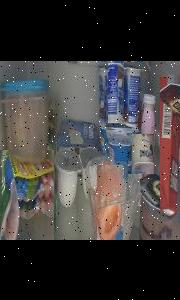Salchichas: (0, 149, 54, 240)
Salsa de tomate: (160, 74, 180, 221)
Tomate: (97, 164, 123, 240)
Yogur: (124, 60, 144, 126), (106, 60, 125, 127), (128, 133, 154, 173), (106, 126, 132, 160), (96, 60, 108, 119)
